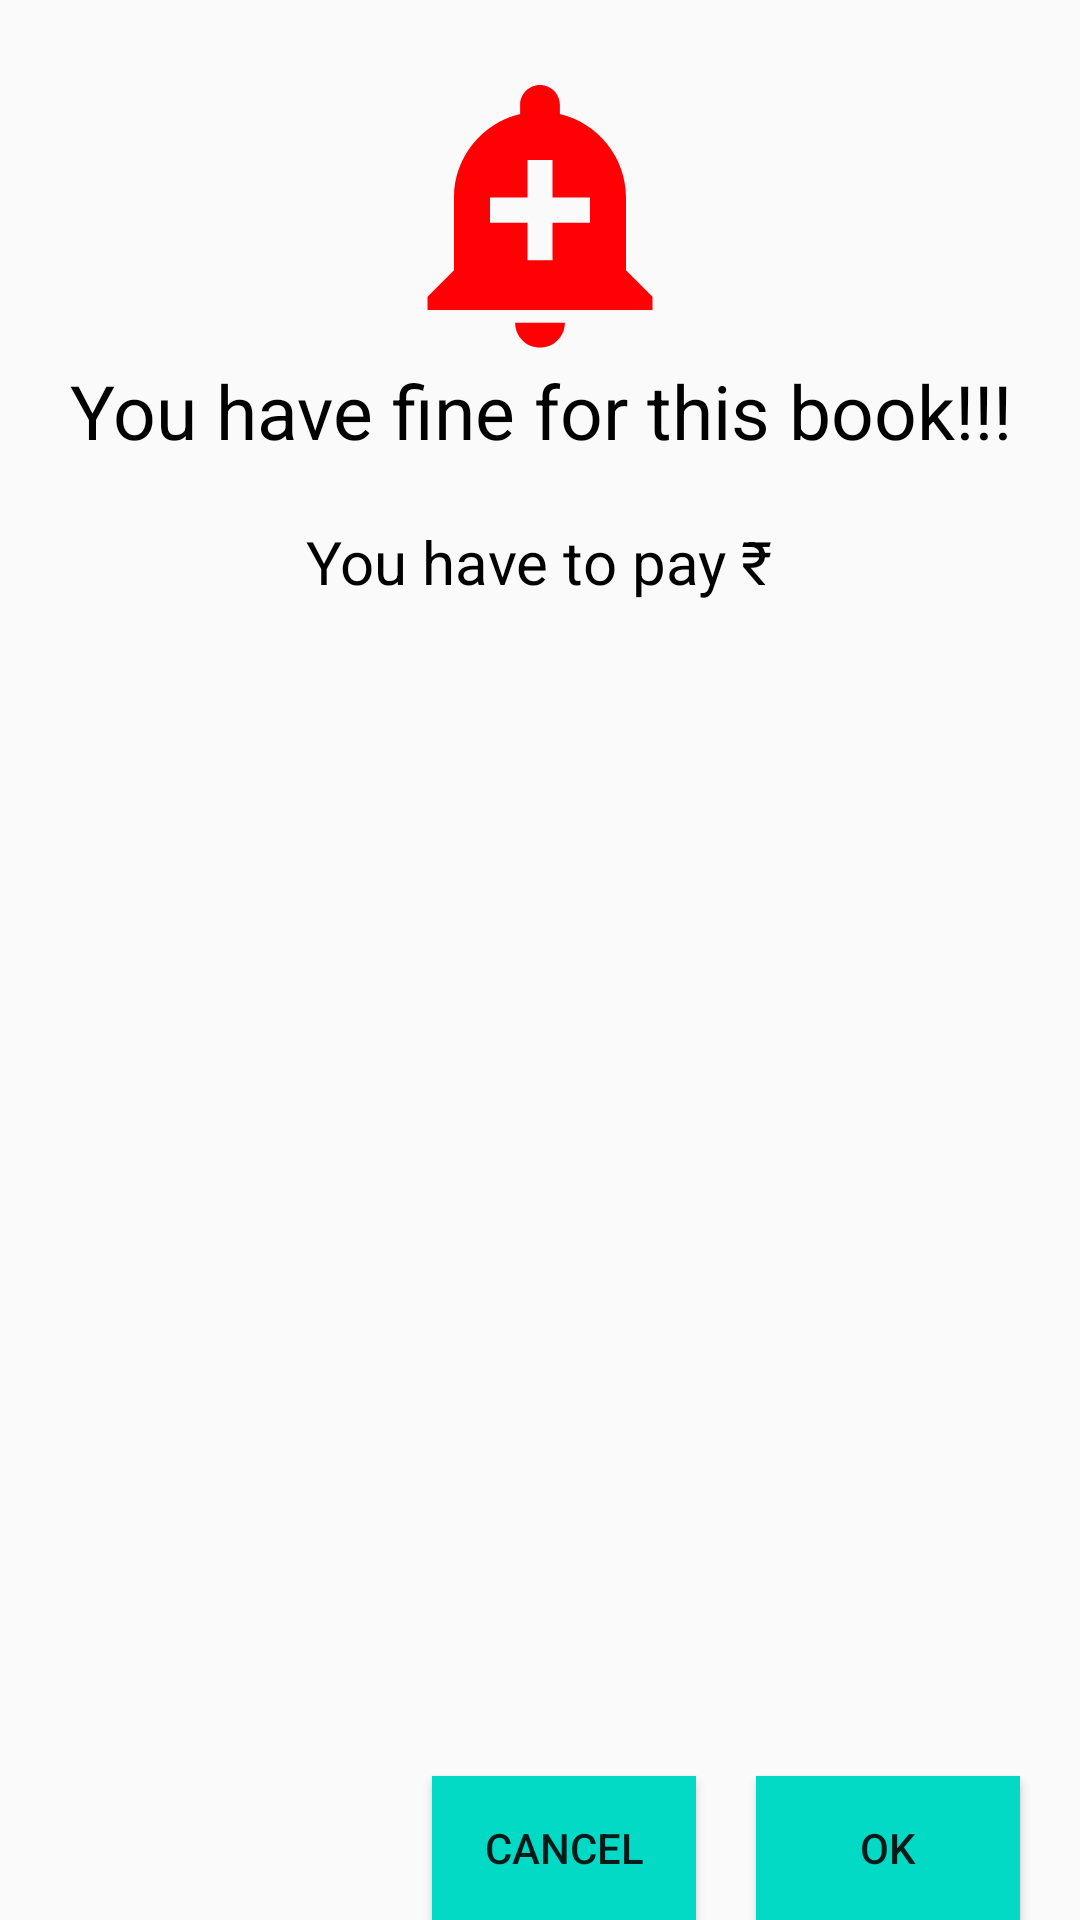

Named icons in this screenshot (1080w x 1920h) and their bounding boxes, BBox(x1, y1, x2, y2):
add alert: BBox(427, 85, 653, 348)
